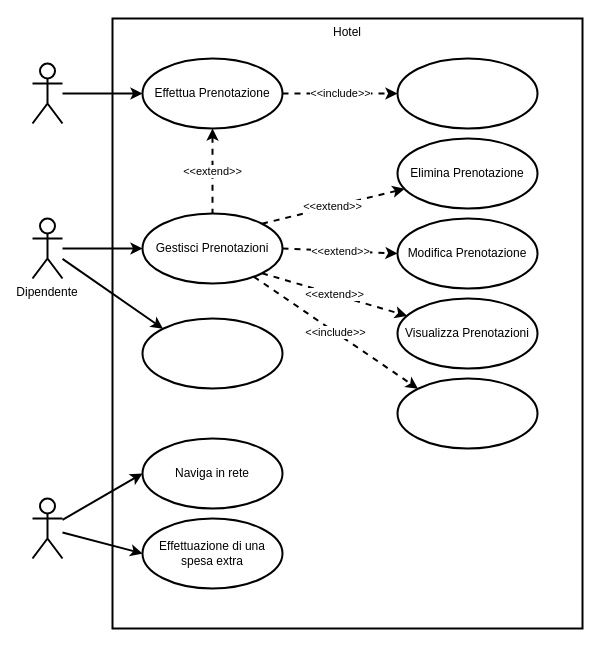
Some shapes in this 601 by 646 pixel diagram are drawn without their labels. Here are the shapes that lost their labels. From the top down, the centre of each, then its label:
the point at 47,93: Utenti
the point at 467,93: Registrazione
the point at 212,353: Acconto di spesa enxtra all'alloggiante
the point at 467,413: Autenticazione
the point at 47,528: Alloggiante
